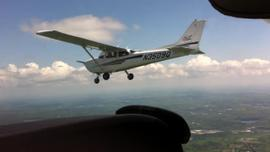aircraft: (35, 19, 206, 84)
